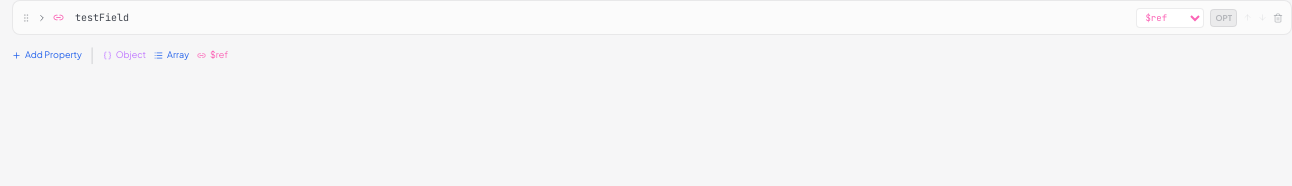
Scenario: SchemaPropertyEditor › shows constraints panel when expanded
Click the 1st button at (42, 18), box [37,12,47,22]
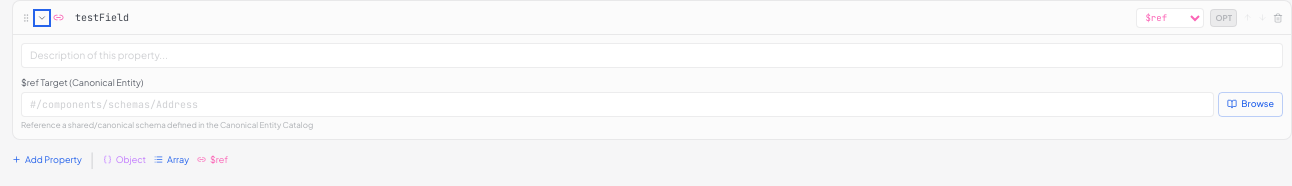
Result: the field with placeholder "#/components/schemas/Address" is shown at [21,92,1214,116]
